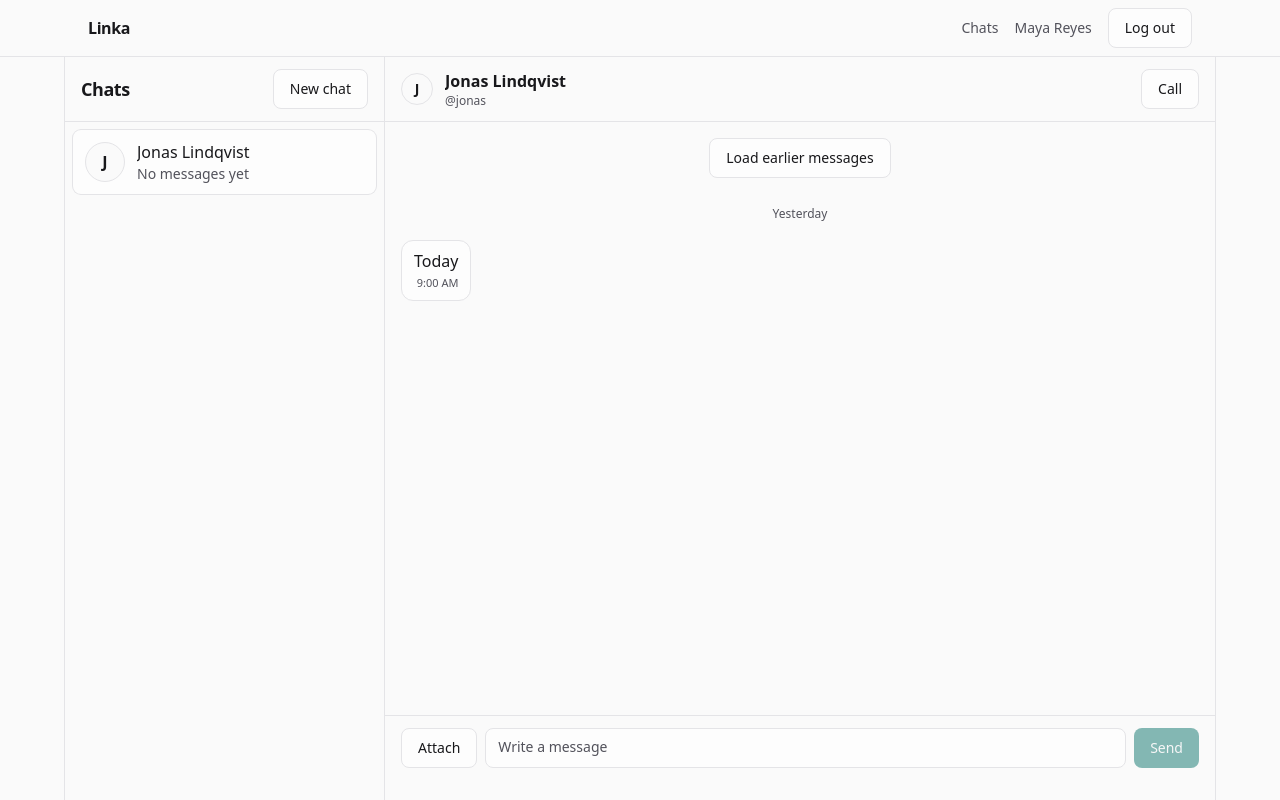
Test case: conversation view › loads earlier messages with the cursor
The image size is (1280, 800).
expect the text box labelled "message" is shown: met, box [485,728,1126,768]
Click the button "Load earlier messages" at [800, 158], box [709,138,891,178]
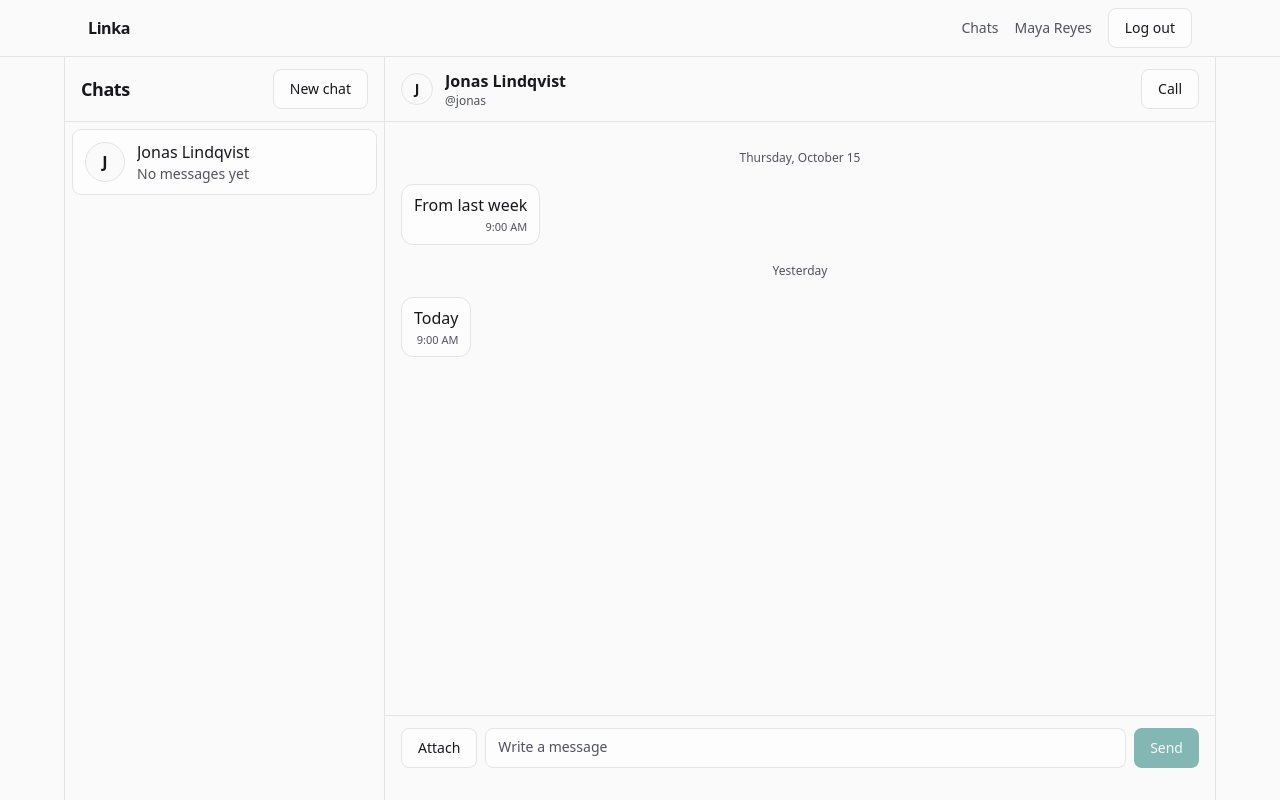
expect the text "From last week" is shown: met, box [414,193,527,217]
expect the button "Load earlier messages" is gone: met
